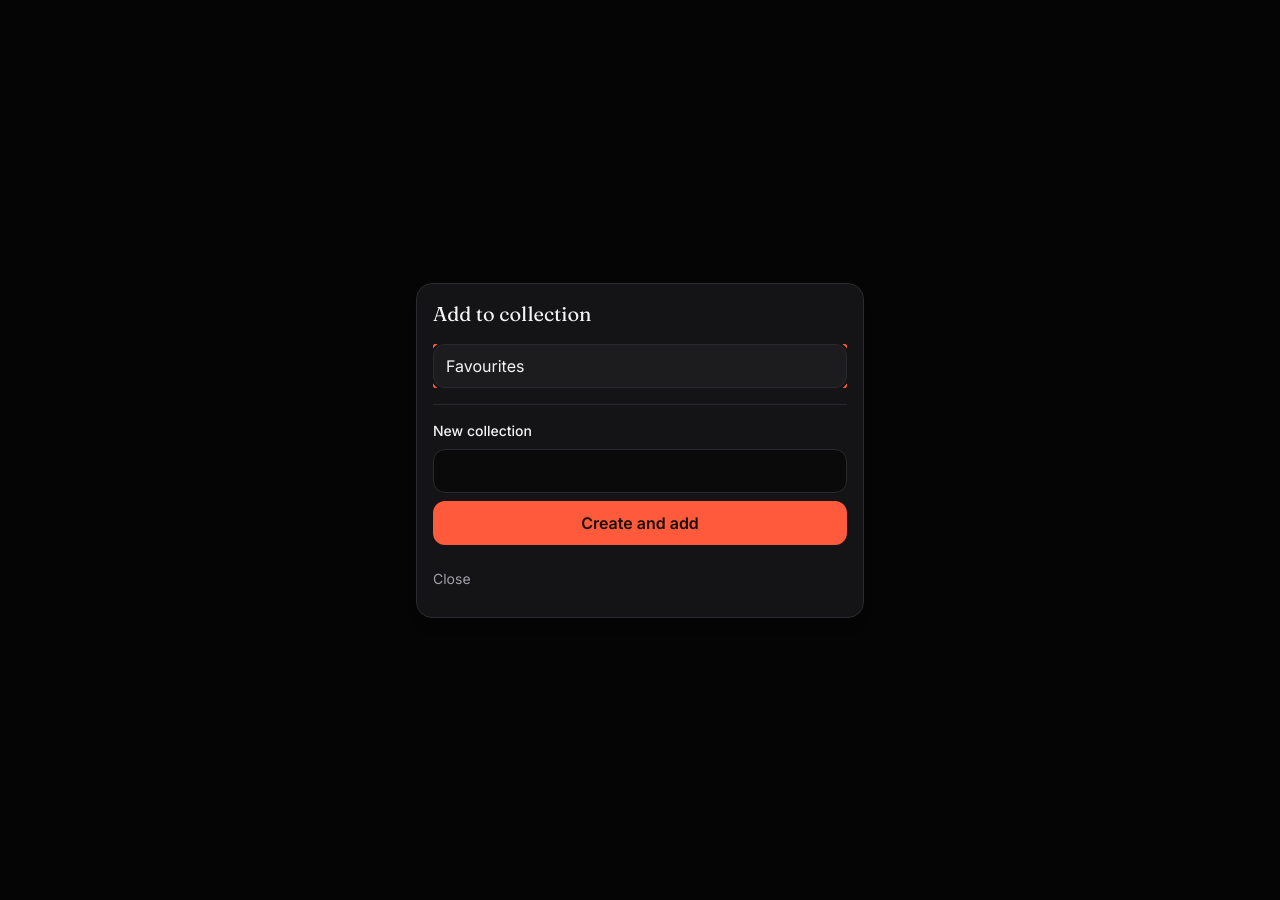
AddToCollectionModal › shows validation error for empty name
Click the button "Create and add" at (640, 522), box [433,500,847,544]
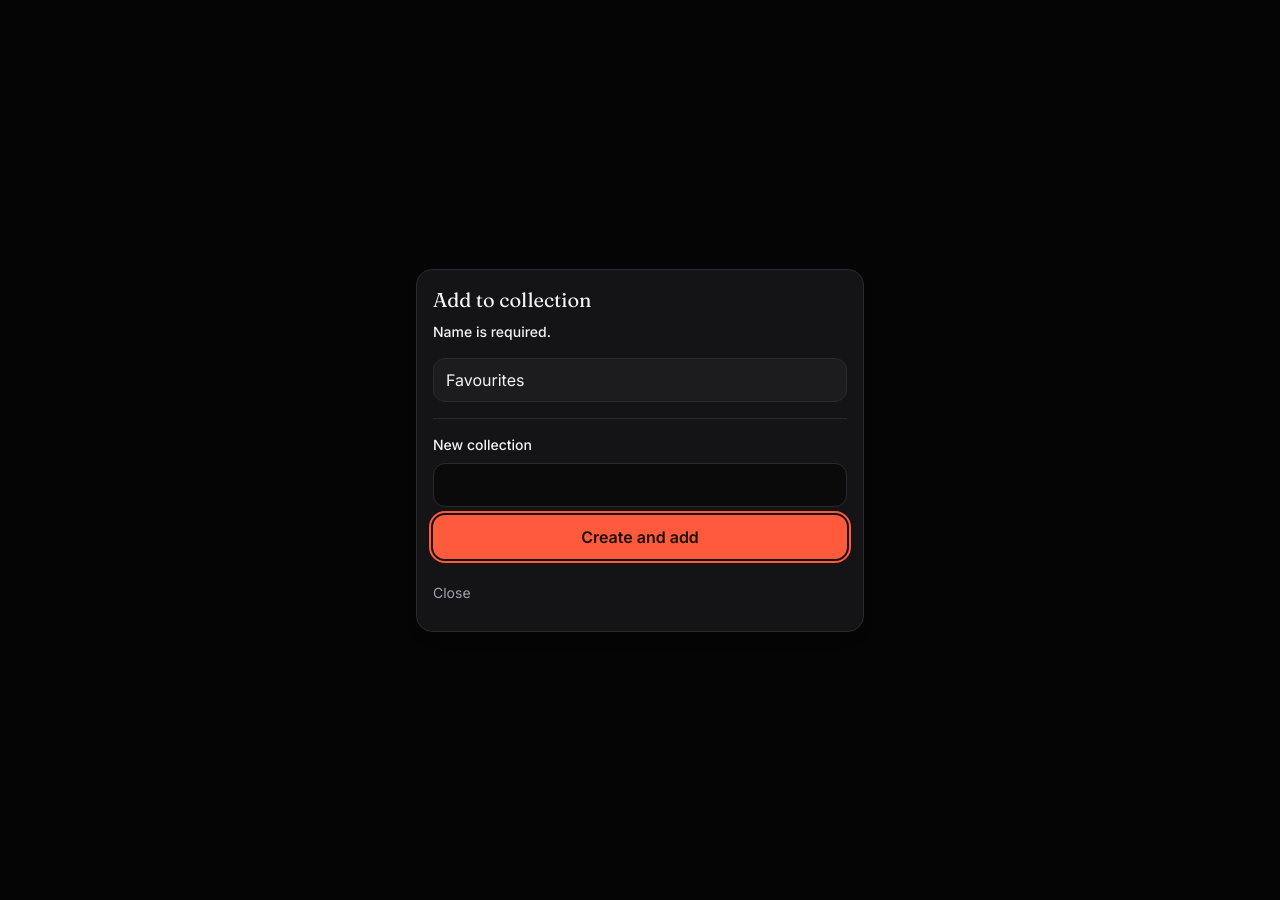
expect the text "Name is required." is shown: met, box [433,322,551,340]
